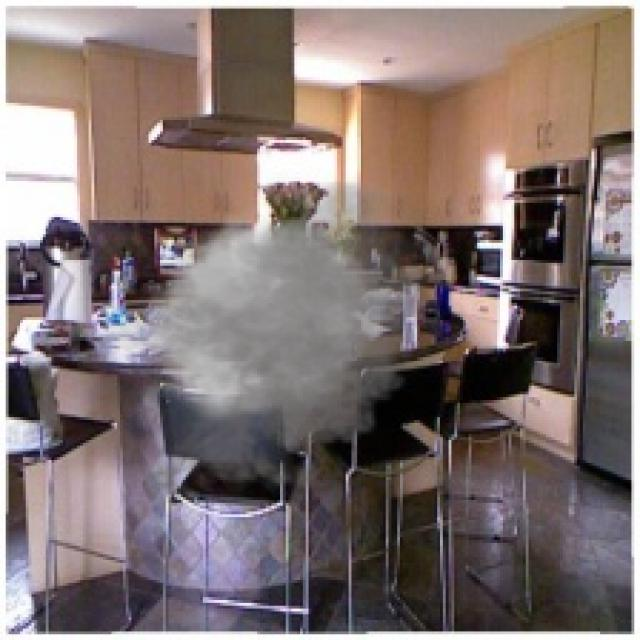smoke: (77, 166, 454, 511)
